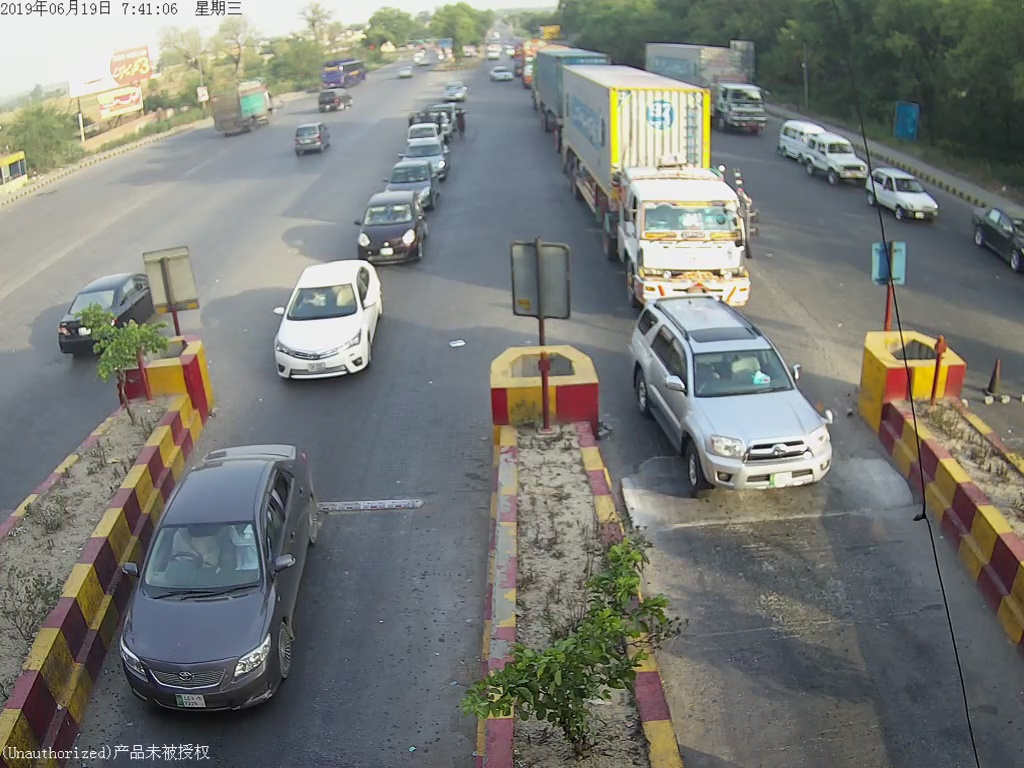Cat-1: (123, 441, 323, 710), (626, 305, 846, 490), (272, 263, 382, 378), (356, 195, 421, 259)
Cat-5: (558, 66, 763, 295)
